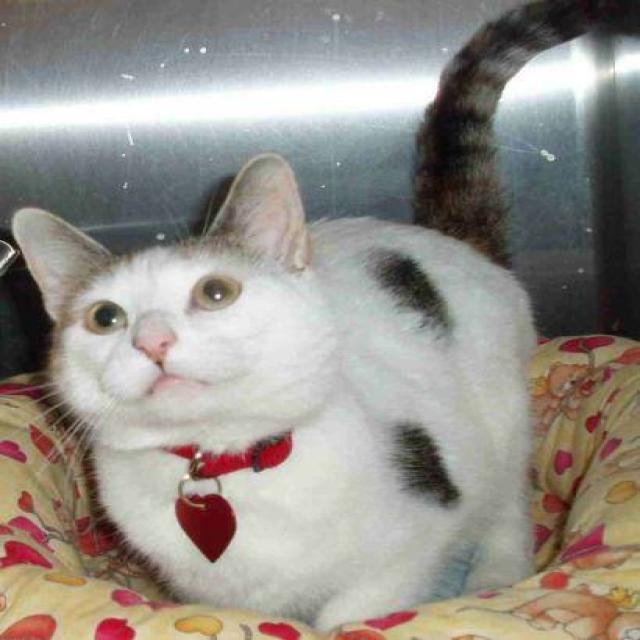cat: (9, 0, 638, 634)
